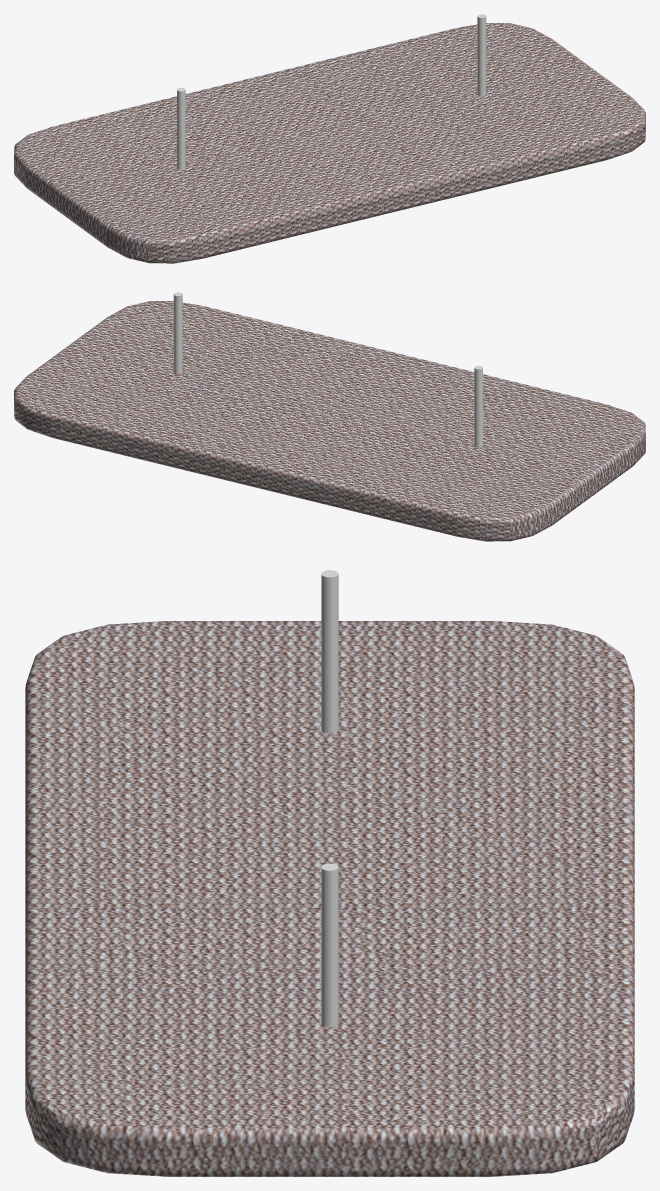
3 views of the same model, one above another, from view 1: azimuth 30°, elevation 25°; view 2: azimuth 150°, elevation 25°; view 3: azimuth 270°, elevation 25° (orthographic). The views are drawn at different scales.
Parts seen in each view (by area): view 1: Detail1, con2out, con1out; view 2: Detail1, con2out, con1out; view 3: Detail1, con2out, con1out.
Boxes of the visible parts, x1=… form: Detail1: x1=14, y1=23, x2=645, y2=263; con2out: x1=477, y1=14, x2=486, y2=96; con1out: x1=177, y1=87, x2=185, y2=169; Detail1: x1=14, y1=301, x2=645, y2=541; con2out: x1=173, y1=292, x2=182, y2=374; con1out: x1=474, y1=365, x2=482, y2=447; Detail1: x1=25, y1=621, x2=634, y2=1176; con2out: x1=321, y1=863, x2=338, y2=1026; con1out: x1=321, y1=570, x2=338, y2=733.
Bounding box in the file's own units: 0.7 × 0.1291 × 0.35.
Materials: 1 (1 with a texture image).
